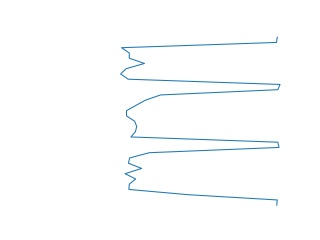majorRiverChannelBar: (116, 37, 289, 207)
